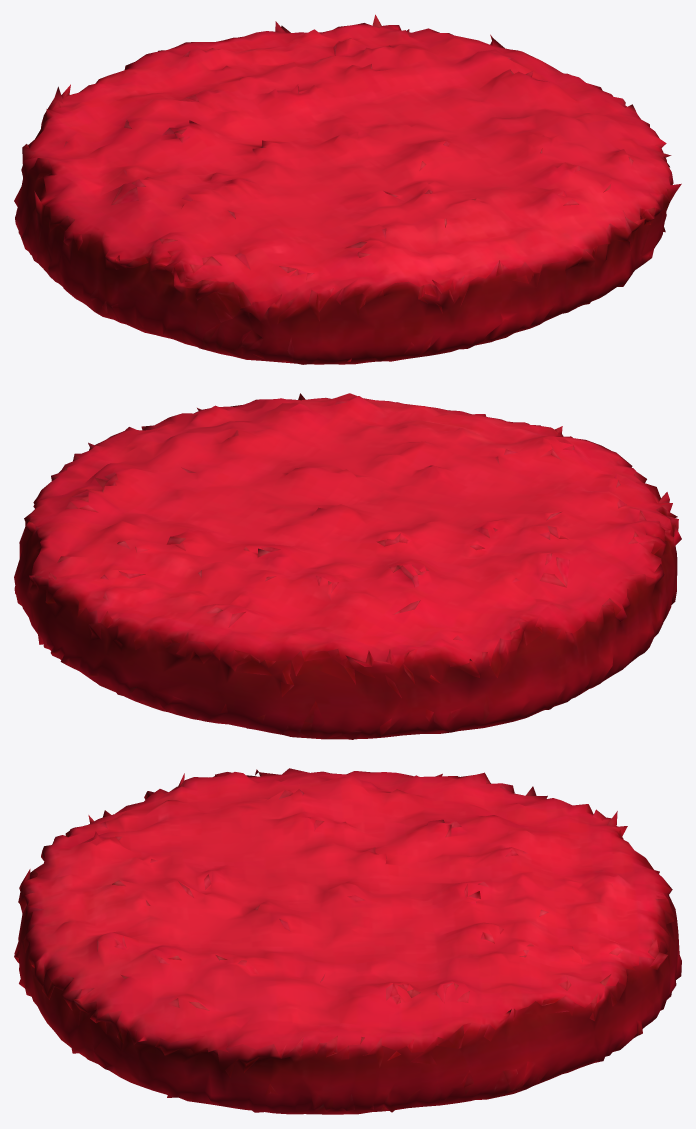
Rendered from Red_round_rug.glb.
3 renders of one model, top to bottom at view 1: azimuth 30°, elevation 25°; view 2: azimuth 150°, elevation 25°; view 3: azimuth 270°, elevation 25°, orthographic. The views are drawn at different scales.
Parts seen in each view (by area): view 1: Mesh_0; view 2: Mesh_0; view 3: Mesh_0.
Boxes of the visible parts, x1=… form: Mesh_0: x1=14, y1=14, x2=681, y2=364; Mesh_0: x1=14, y1=393, x2=681, y2=739; Mesh_0: x1=14, y1=768, x2=681, y2=1114.
Size of the model in its own units: 1.9 by 0.3563 by 1.89.
1 material, 1 textured.
